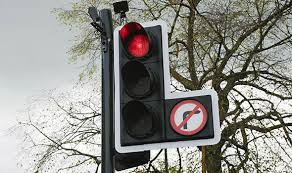red: (108, 19, 169, 155), (116, 22, 164, 150), (121, 26, 158, 142)
